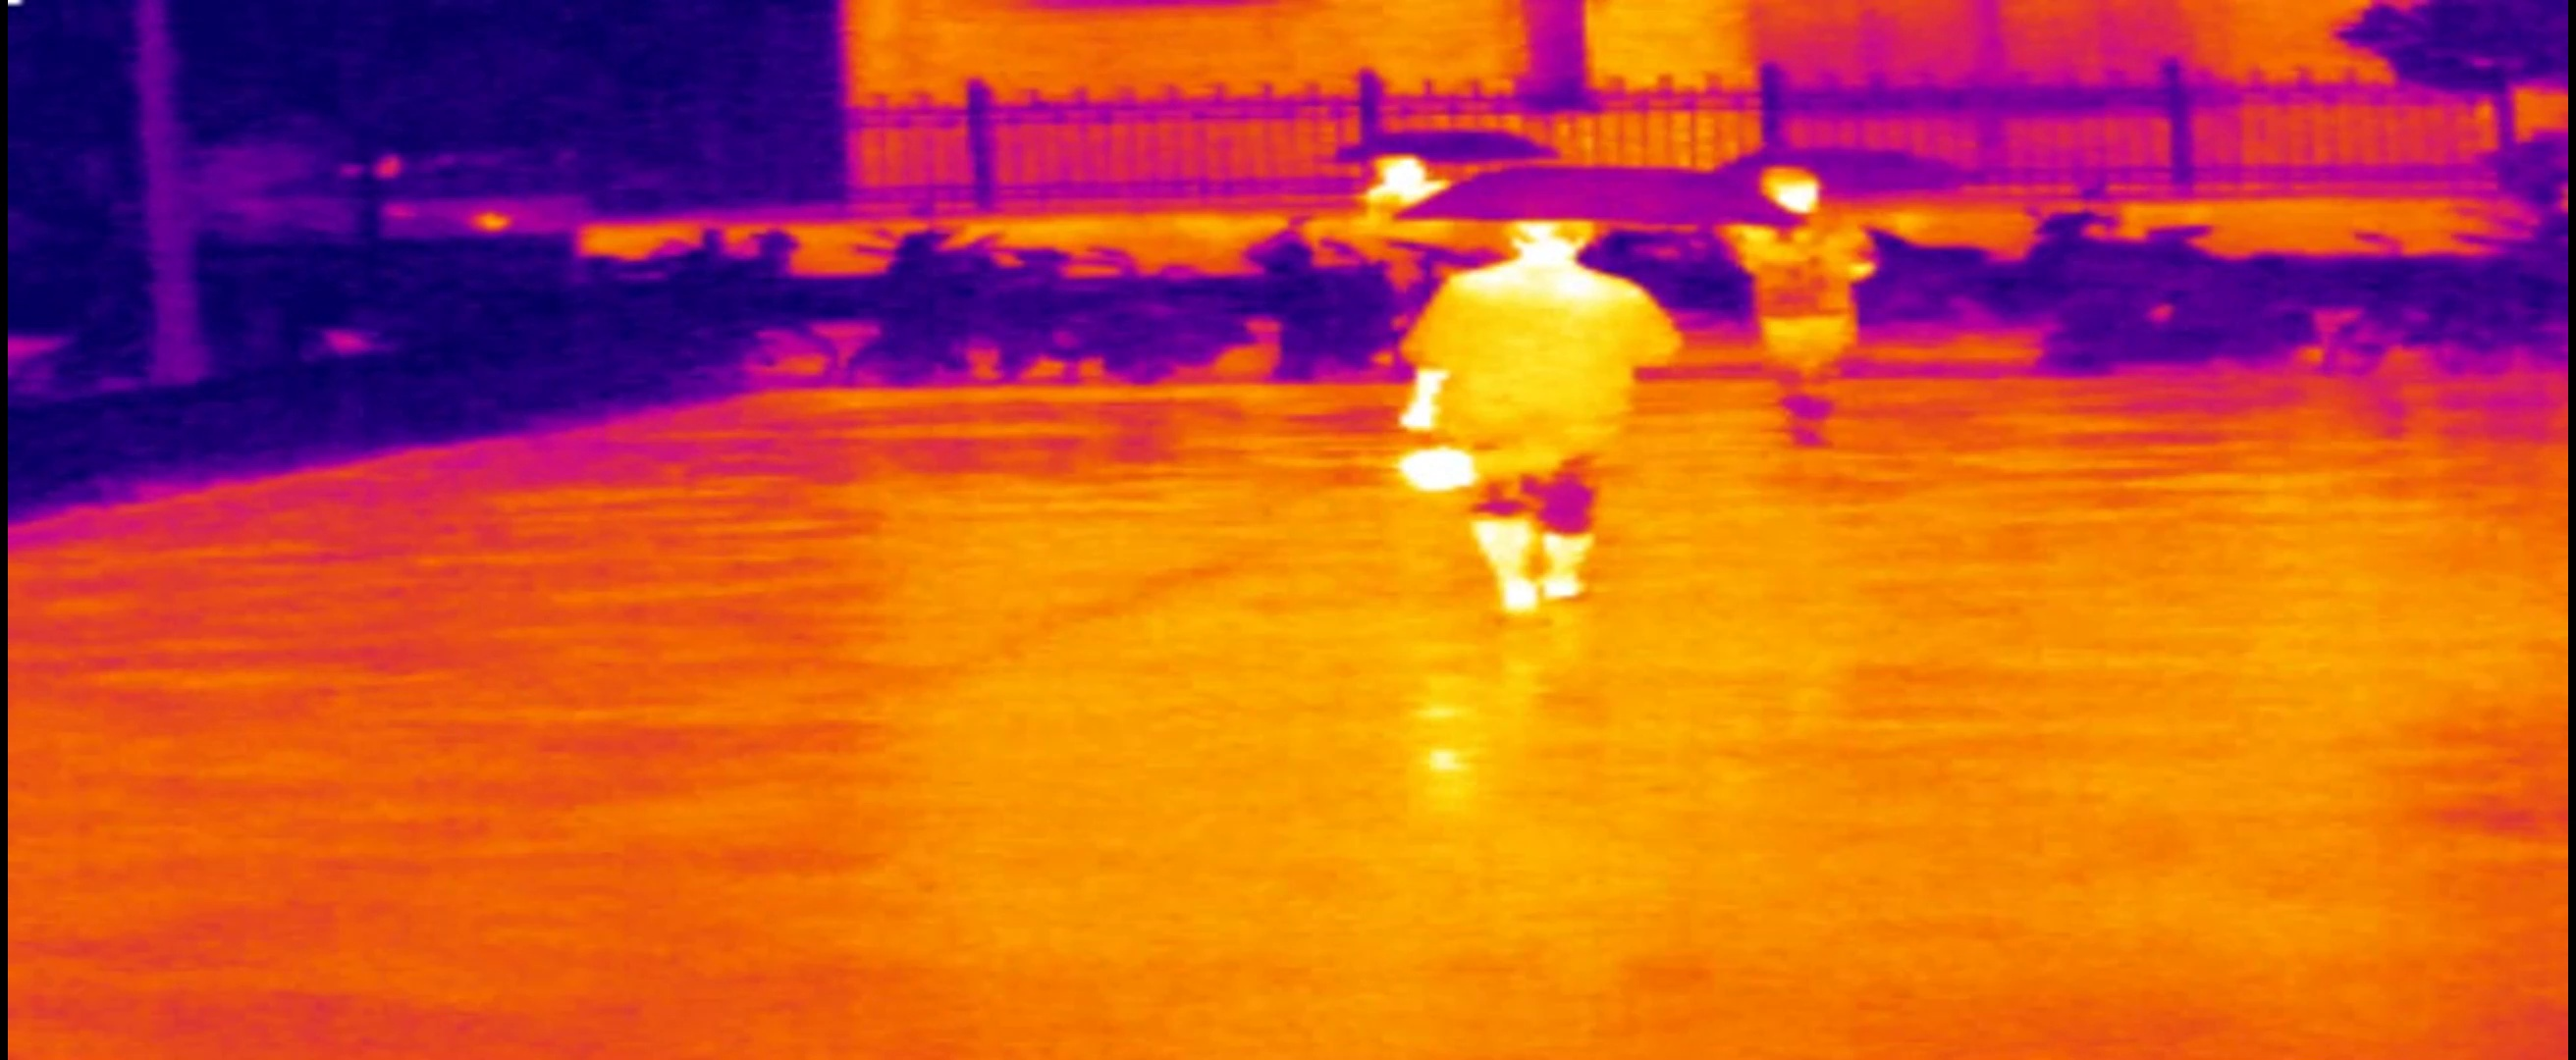person: (1405, 222, 1683, 629), (1749, 176, 1885, 446), (1363, 153, 1449, 220)
